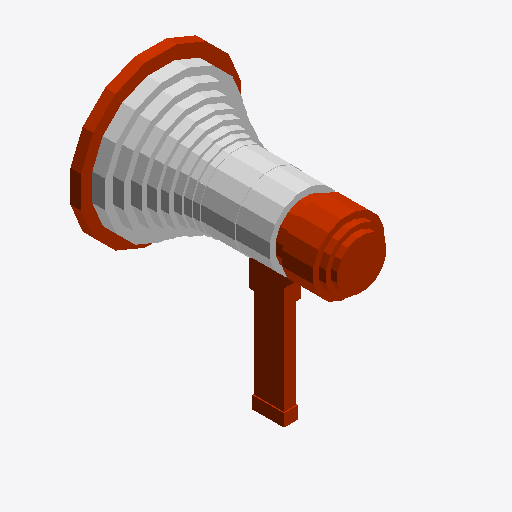
Isometric view (azimuth 45°, elevation 35.3°) of a Minecraft model made of 324 cuboids, textured from the same repository.
Parts seen in each view (by area): element 264, element 263, element 31, element 32, element 30, element 255, element 29, element 254, element 23, element 239, element 258, element 256 (+21 smaller).
Part boxes in pixels (x1,y1,x2,y2): element 264: (254, 291, 295, 411); element 263: (249, 258, 300, 307); element 31: (83, 88, 124, 137); element 32: (105, 57, 144, 100); element 30: (71, 127, 103, 173); element 255: (241, 188, 289, 226); element 29: (135, 38, 176, 77); element 254: (236, 206, 279, 242); element 23: (70, 167, 92, 209); element 239: (206, 168, 250, 204); element 258: (288, 215, 330, 251); element 256: (252, 175, 297, 209).
Size of the model in its own units: 14.5 by 23.14 by 19.08.